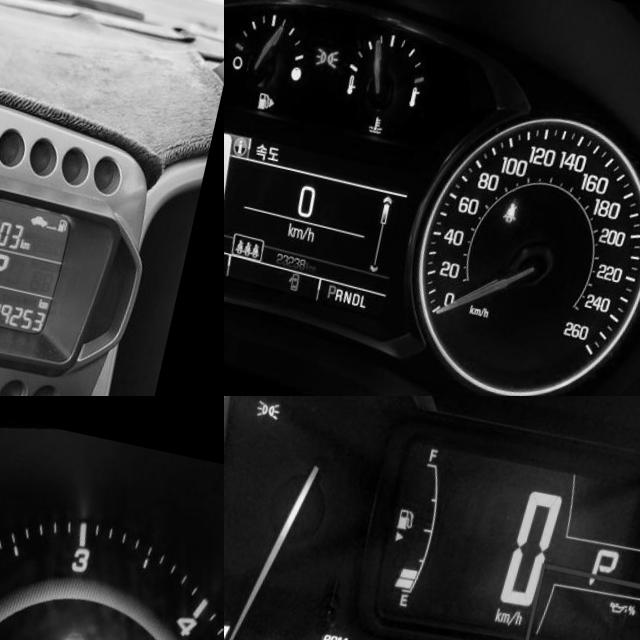Doors: (302, 261, 315, 280)
SideLamp: (319, 37, 345, 58), (263, 396, 289, 414)
